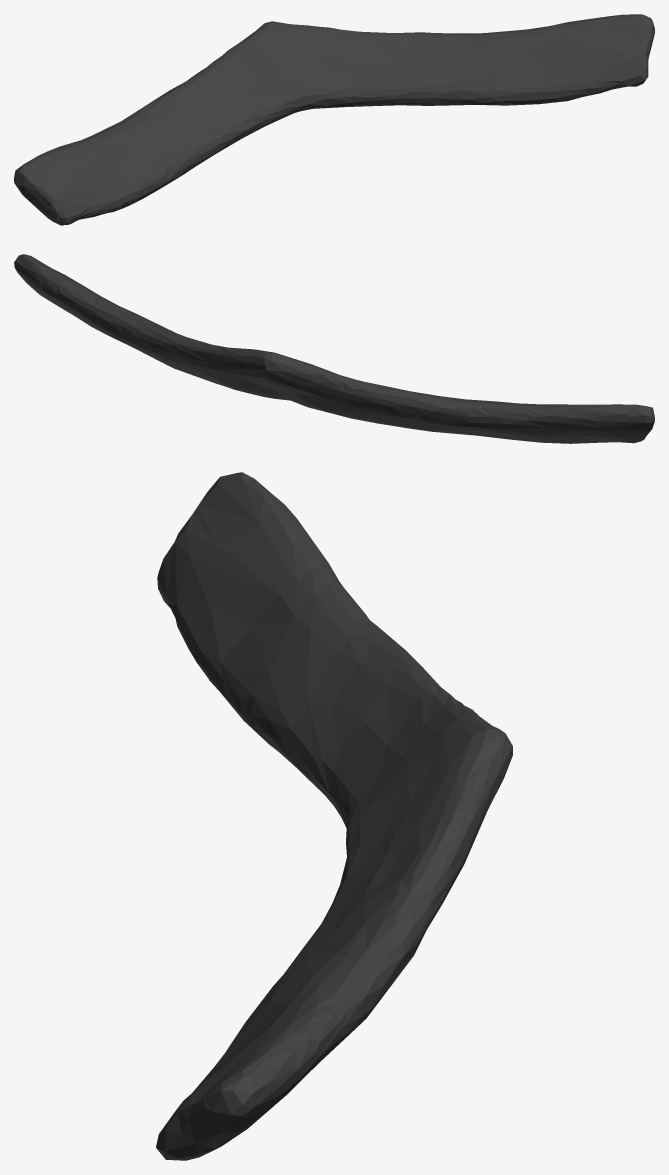
Rendered from m_cervicoscutularis.glb.
The picture shows the model from 3 angles, top to bottom: view 1: azimuth 30°, elevation 25°; view 2: azimuth 150°, elevation 25°; view 3: azimuth 270°, elevation 25°; orthographic projection. The views are drawn at different scales.
Parts seen in each view (by area): view 1: m_cervicoscutularis; view 2: m_cervicoscutularis; view 3: m_cervicoscutularis.
Part boxes in pixels (bbox=[...]): m_cervicoscutularis: bbox=[14, 14, 654, 225]; m_cervicoscutularis: bbox=[14, 254, 654, 443]; m_cervicoscutularis: bbox=[156, 472, 512, 1160].
Size of the model in its own units: 0.00187 by 0.000234 by 0.000452.
Materials: 1 (1 with a texture image).
